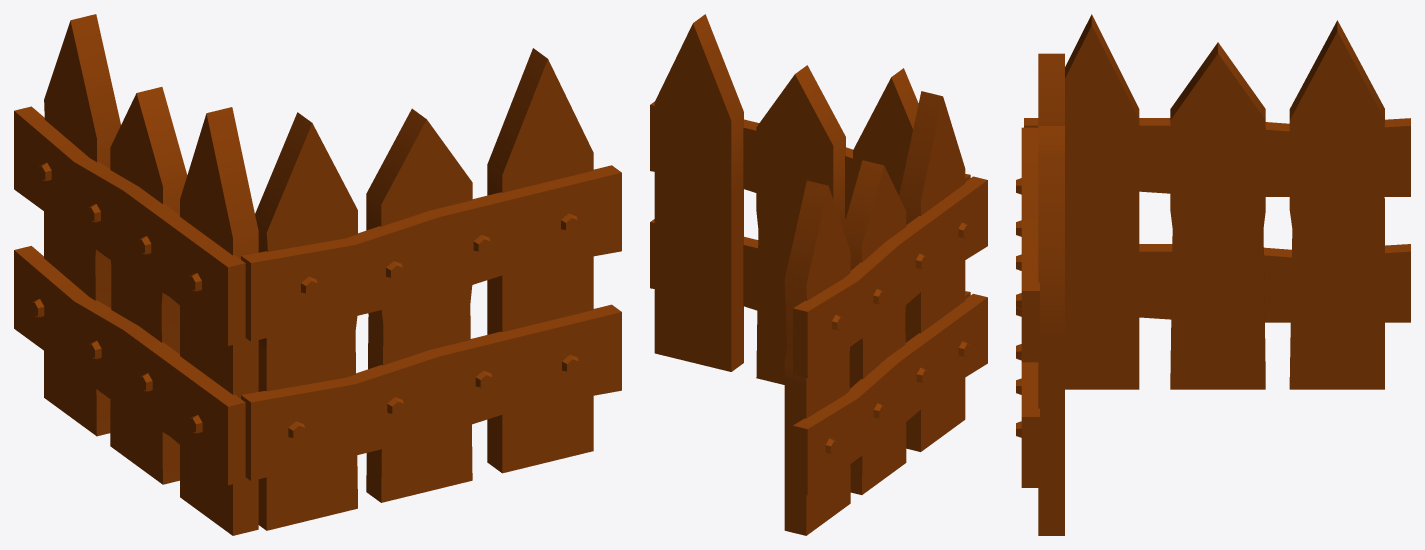
File: Valla_05.fbx
The picture shows the model from 3 angles, left to right: view 1: azimuth 30°, elevation 25°; view 2: azimuth 150°, elevation 25°; view 3: azimuth 270°, elevation 25°; orthographic projection. The views are drawn at different scales.
Parts seen in each view (by area): view 1: Valla_05; view 2: Valla_05; view 3: Valla_05.
Boxes of the visible parts, x1=… form: Valla_05: x1=14, y1=14, x2=621, y2=535; Valla_05: x1=650, y1=14, x2=987, y2=535; Valla_05: x1=1016, y1=14, x2=1410, y2=535.
Bounding box in the file's own units: 236 × 229 × 225.
